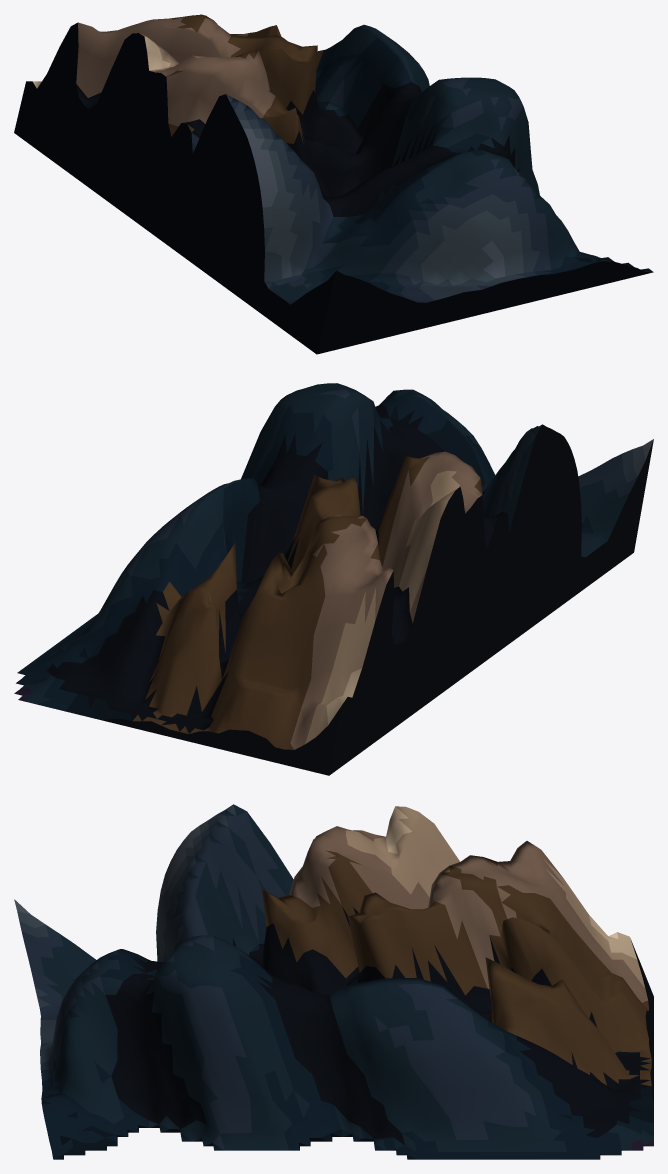
The model's file is gyges_maw_18.glb.
3 views of the same model, one above another, from view 1: azimuth 30°, elevation 25°; view 2: azimuth 150°, elevation 25°; view 3: azimuth 270°, elevation 25° (orthographic).
Visible parts, largest first — view 1: gyges_maw_18; view 2: gyges_maw_18; view 3: gyges_maw_18.
Part boxes in pixels (x1,y1,x2,y2): gyges_maw_18: (14,14,653,354); gyges_maw_18: (14,383,653,775); gyges_maw_18: (14,804,653,1159).
Bounding box in the file's own units: 18 × 9.9 × 29.83.
